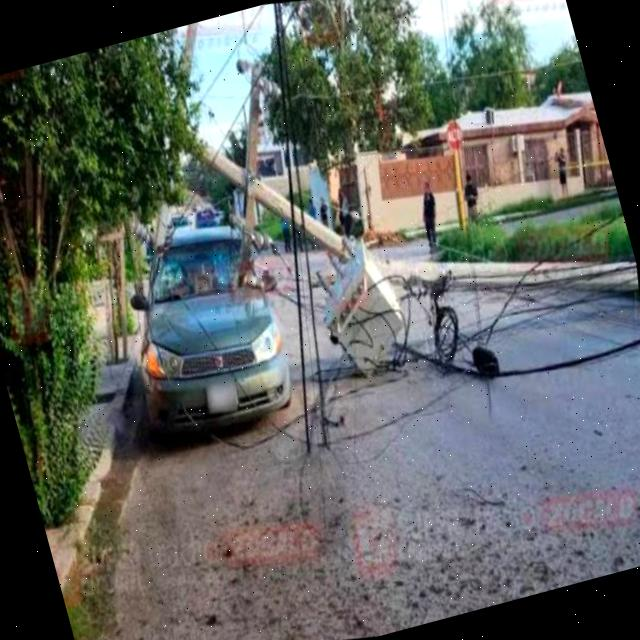Broken Pole: (150, 21, 637, 385)
